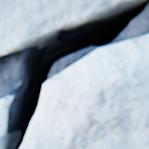brick: (0, 0, 147, 58)
broken_brick: (20, 35, 148, 148), (0, 97, 13, 148)
crack: (2, 0, 148, 148)
